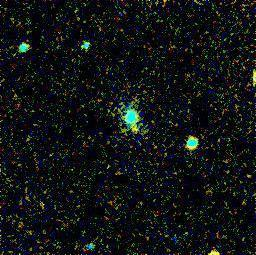star: (120, 117, 150, 147)
